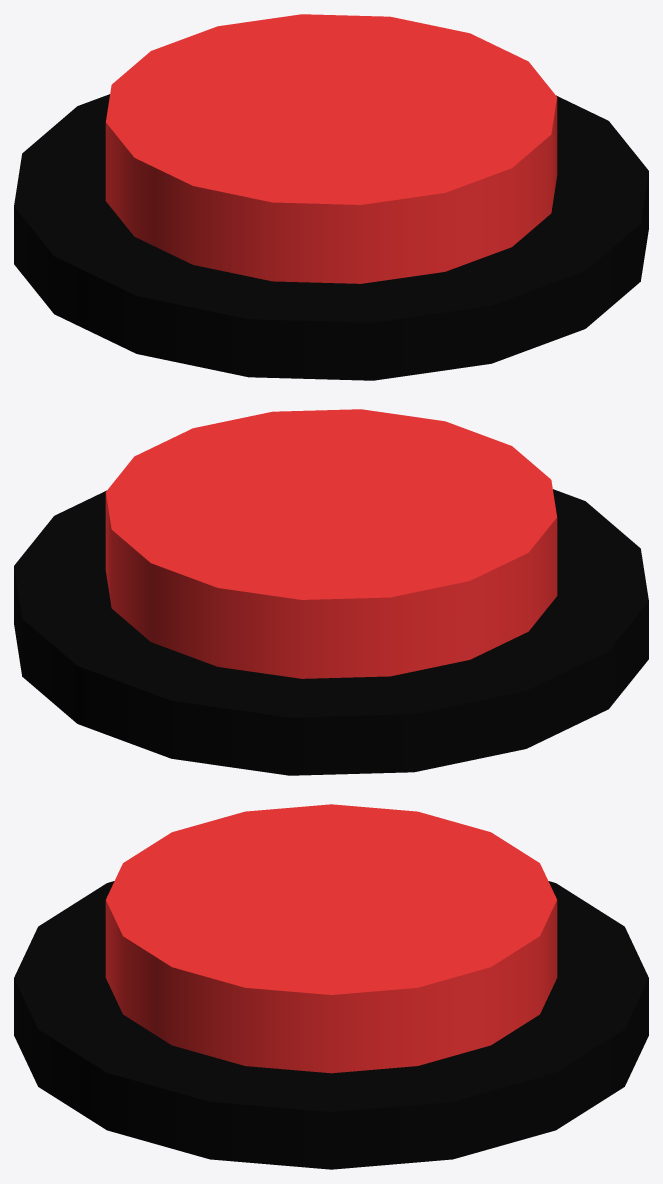
File: Button.fbx
3 views of the same model, one above another, from view 1: azimuth 30°, elevation 25°; view 2: azimuth 150°, elevation 25°; view 3: azimuth 270°, elevation 25° (orthographic).
Visible parts, largest first — view 1: Cylinder.001, Cylinder; view 2: Cylinder.001, Cylinder; view 3: Cylinder.001, Cylinder.
Boxes of the visible parts, <box> form: Cylinder.001: <box>105,14,557,283</box>; Cylinder: <box>14,94,648,380</box>; Cylinder.001: <box>105,409,557,678</box>; Cylinder: <box>14,489,648,775</box>; Cylinder.001: <box>105,804,557,1073</box>; Cylinder: <box>14,881,648,1169</box>.
Size of the model in its own units: 200 by 47.19 by 200.
